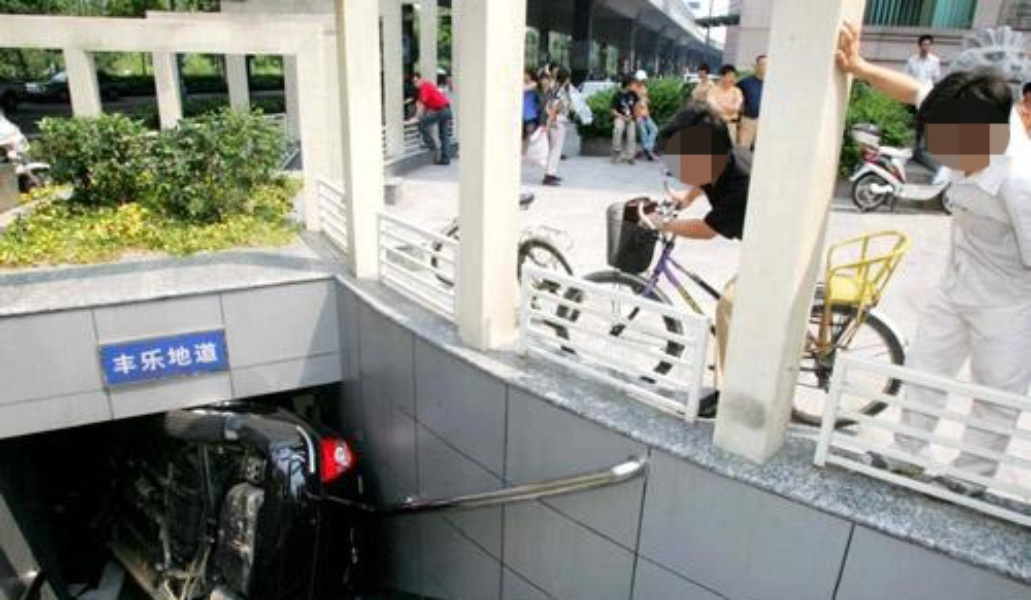text: (113, 341, 128, 378), (129, 341, 144, 378), (145, 341, 160, 378), (161, 341, 176, 378), (177, 341, 192, 378), (193, 341, 208, 378), (209, 341, 219, 378)
